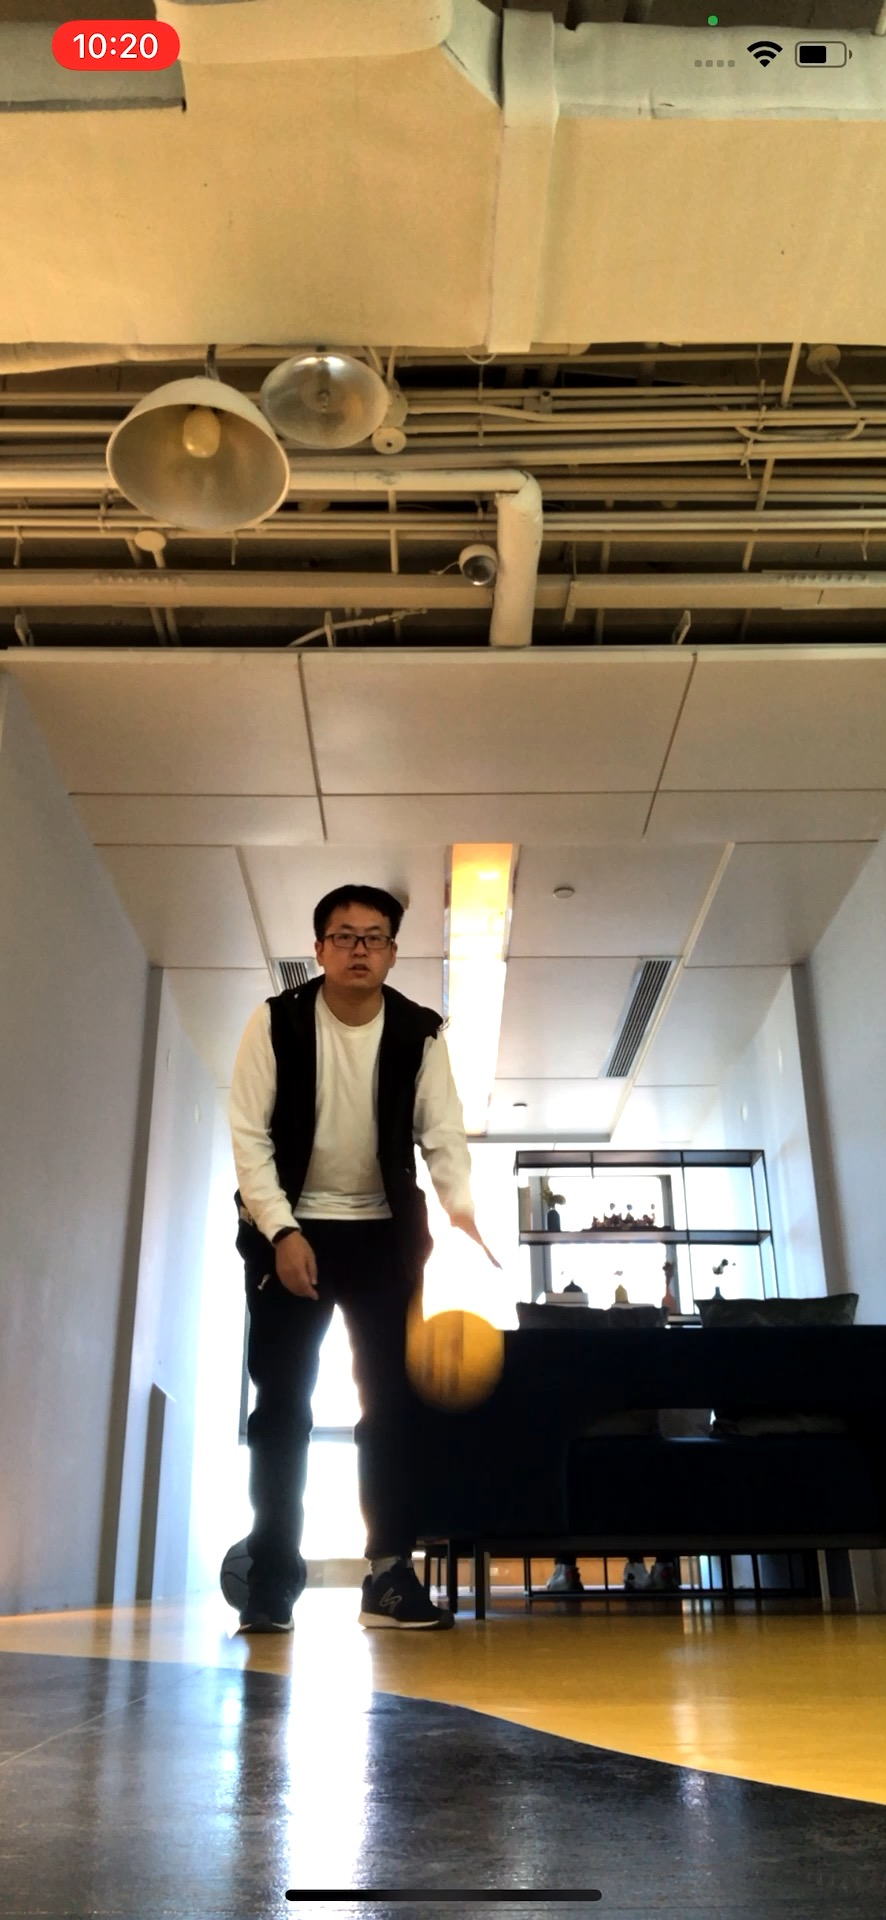ball: (406, 1308, 504, 1404)
